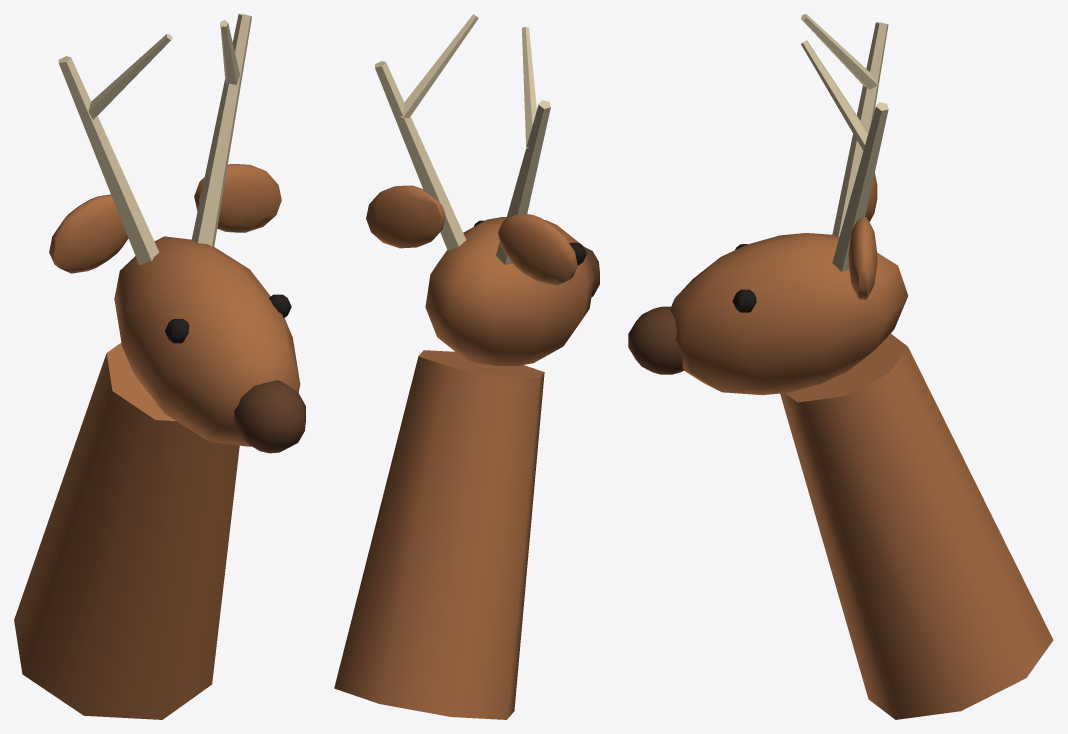
File: Deer_Neck.fbx
The picture shows the model from 3 angles, left to right: view 1: azimuth 30°, elevation 25°; view 2: azimuth 150°, elevation 25°; view 3: azimuth 270°, elevation 25°; orthographic projection. The views are drawn at different scales.
Parts seen in each view (by area): view 1: Deer_Neck_EXP; view 2: Deer_Neck_EXP; view 3: Deer_Neck_EXP.
Boxes of the visible parts, x1,y1,x2,y2 form: Deer_Neck_EXP: [14, 14, 305, 719]; Deer_Neck_EXP: [334, 14, 599, 719]; Deer_Neck_EXP: [628, 14, 1053, 719].
Size of the model in its own units: 0.2515 by 0.7559 by 0.4333.
